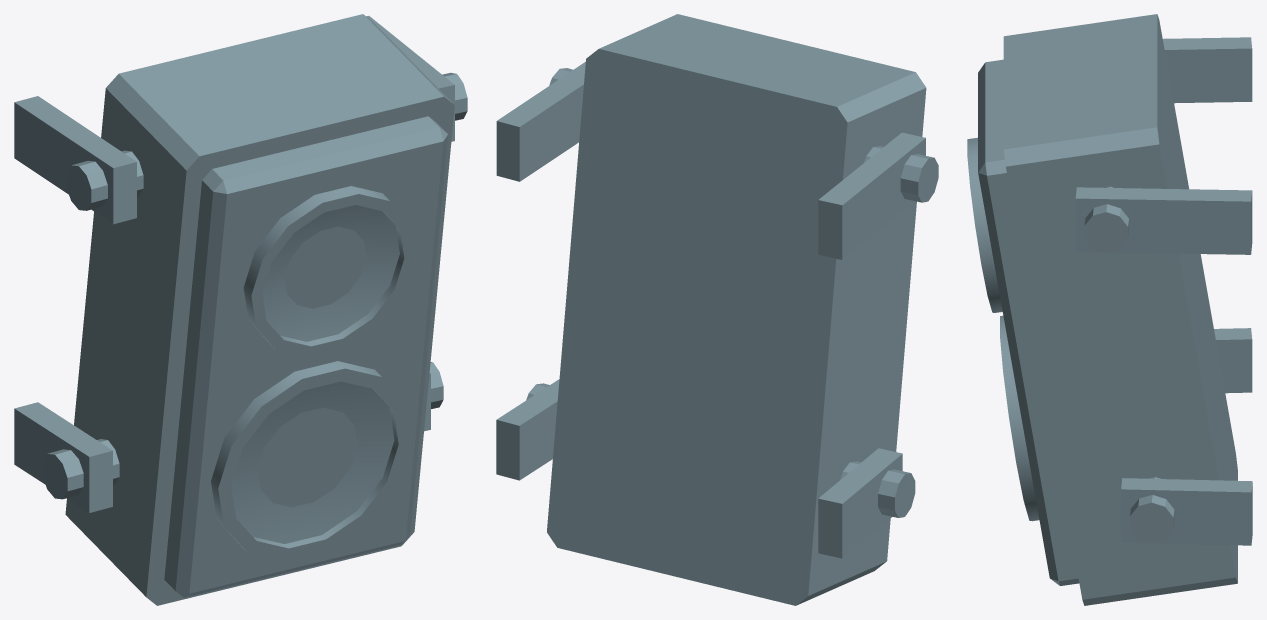
File: Speakers.fbx
3 views of the same model, side by side, from view 1: azimuth 30°, elevation 25°; view 2: azimuth 150°, elevation 25°; view 3: azimuth 270°, elevation 25° (orthographic). The views are drawn at different scales.
Visible parts, largest first — view 1: Speakers; view 2: Speakers; view 3: Speakers.
Boxes of the visible parts, x1=… form: Speakers: x1=14, y1=14, x2=467, y2=605; Speakers: x1=496, y1=14, x2=938, y2=605; Speakers: x1=967, y1=14, x2=1252, y2=605.
Size of the model in its own units: 34.91 by 44.21 by 23.87.
